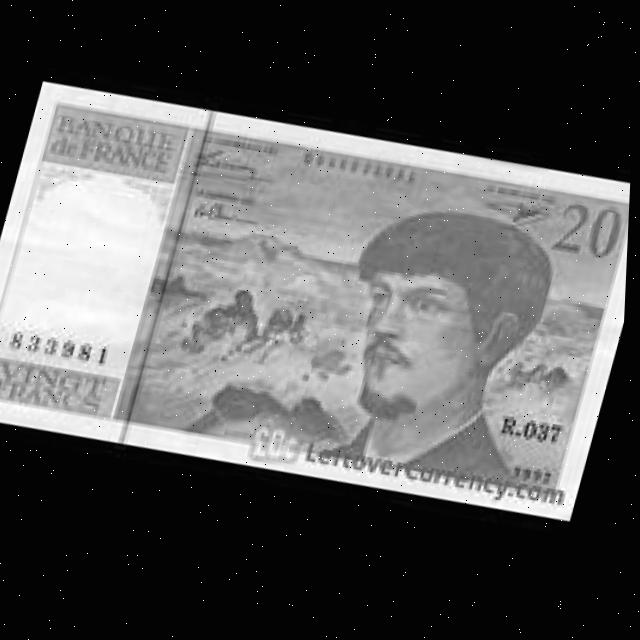banknote: (0, 49, 637, 554), (545, 196, 632, 279), (0, 352, 117, 408)
